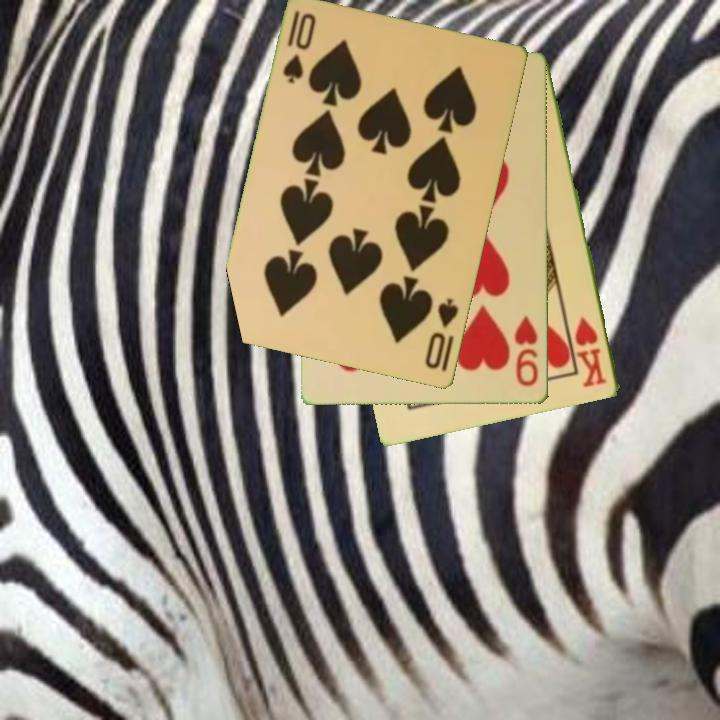10s: (279, 7, 320, 87), (422, 295, 462, 373)
9h: (512, 313, 542, 389)
Kh: (571, 313, 611, 391)
